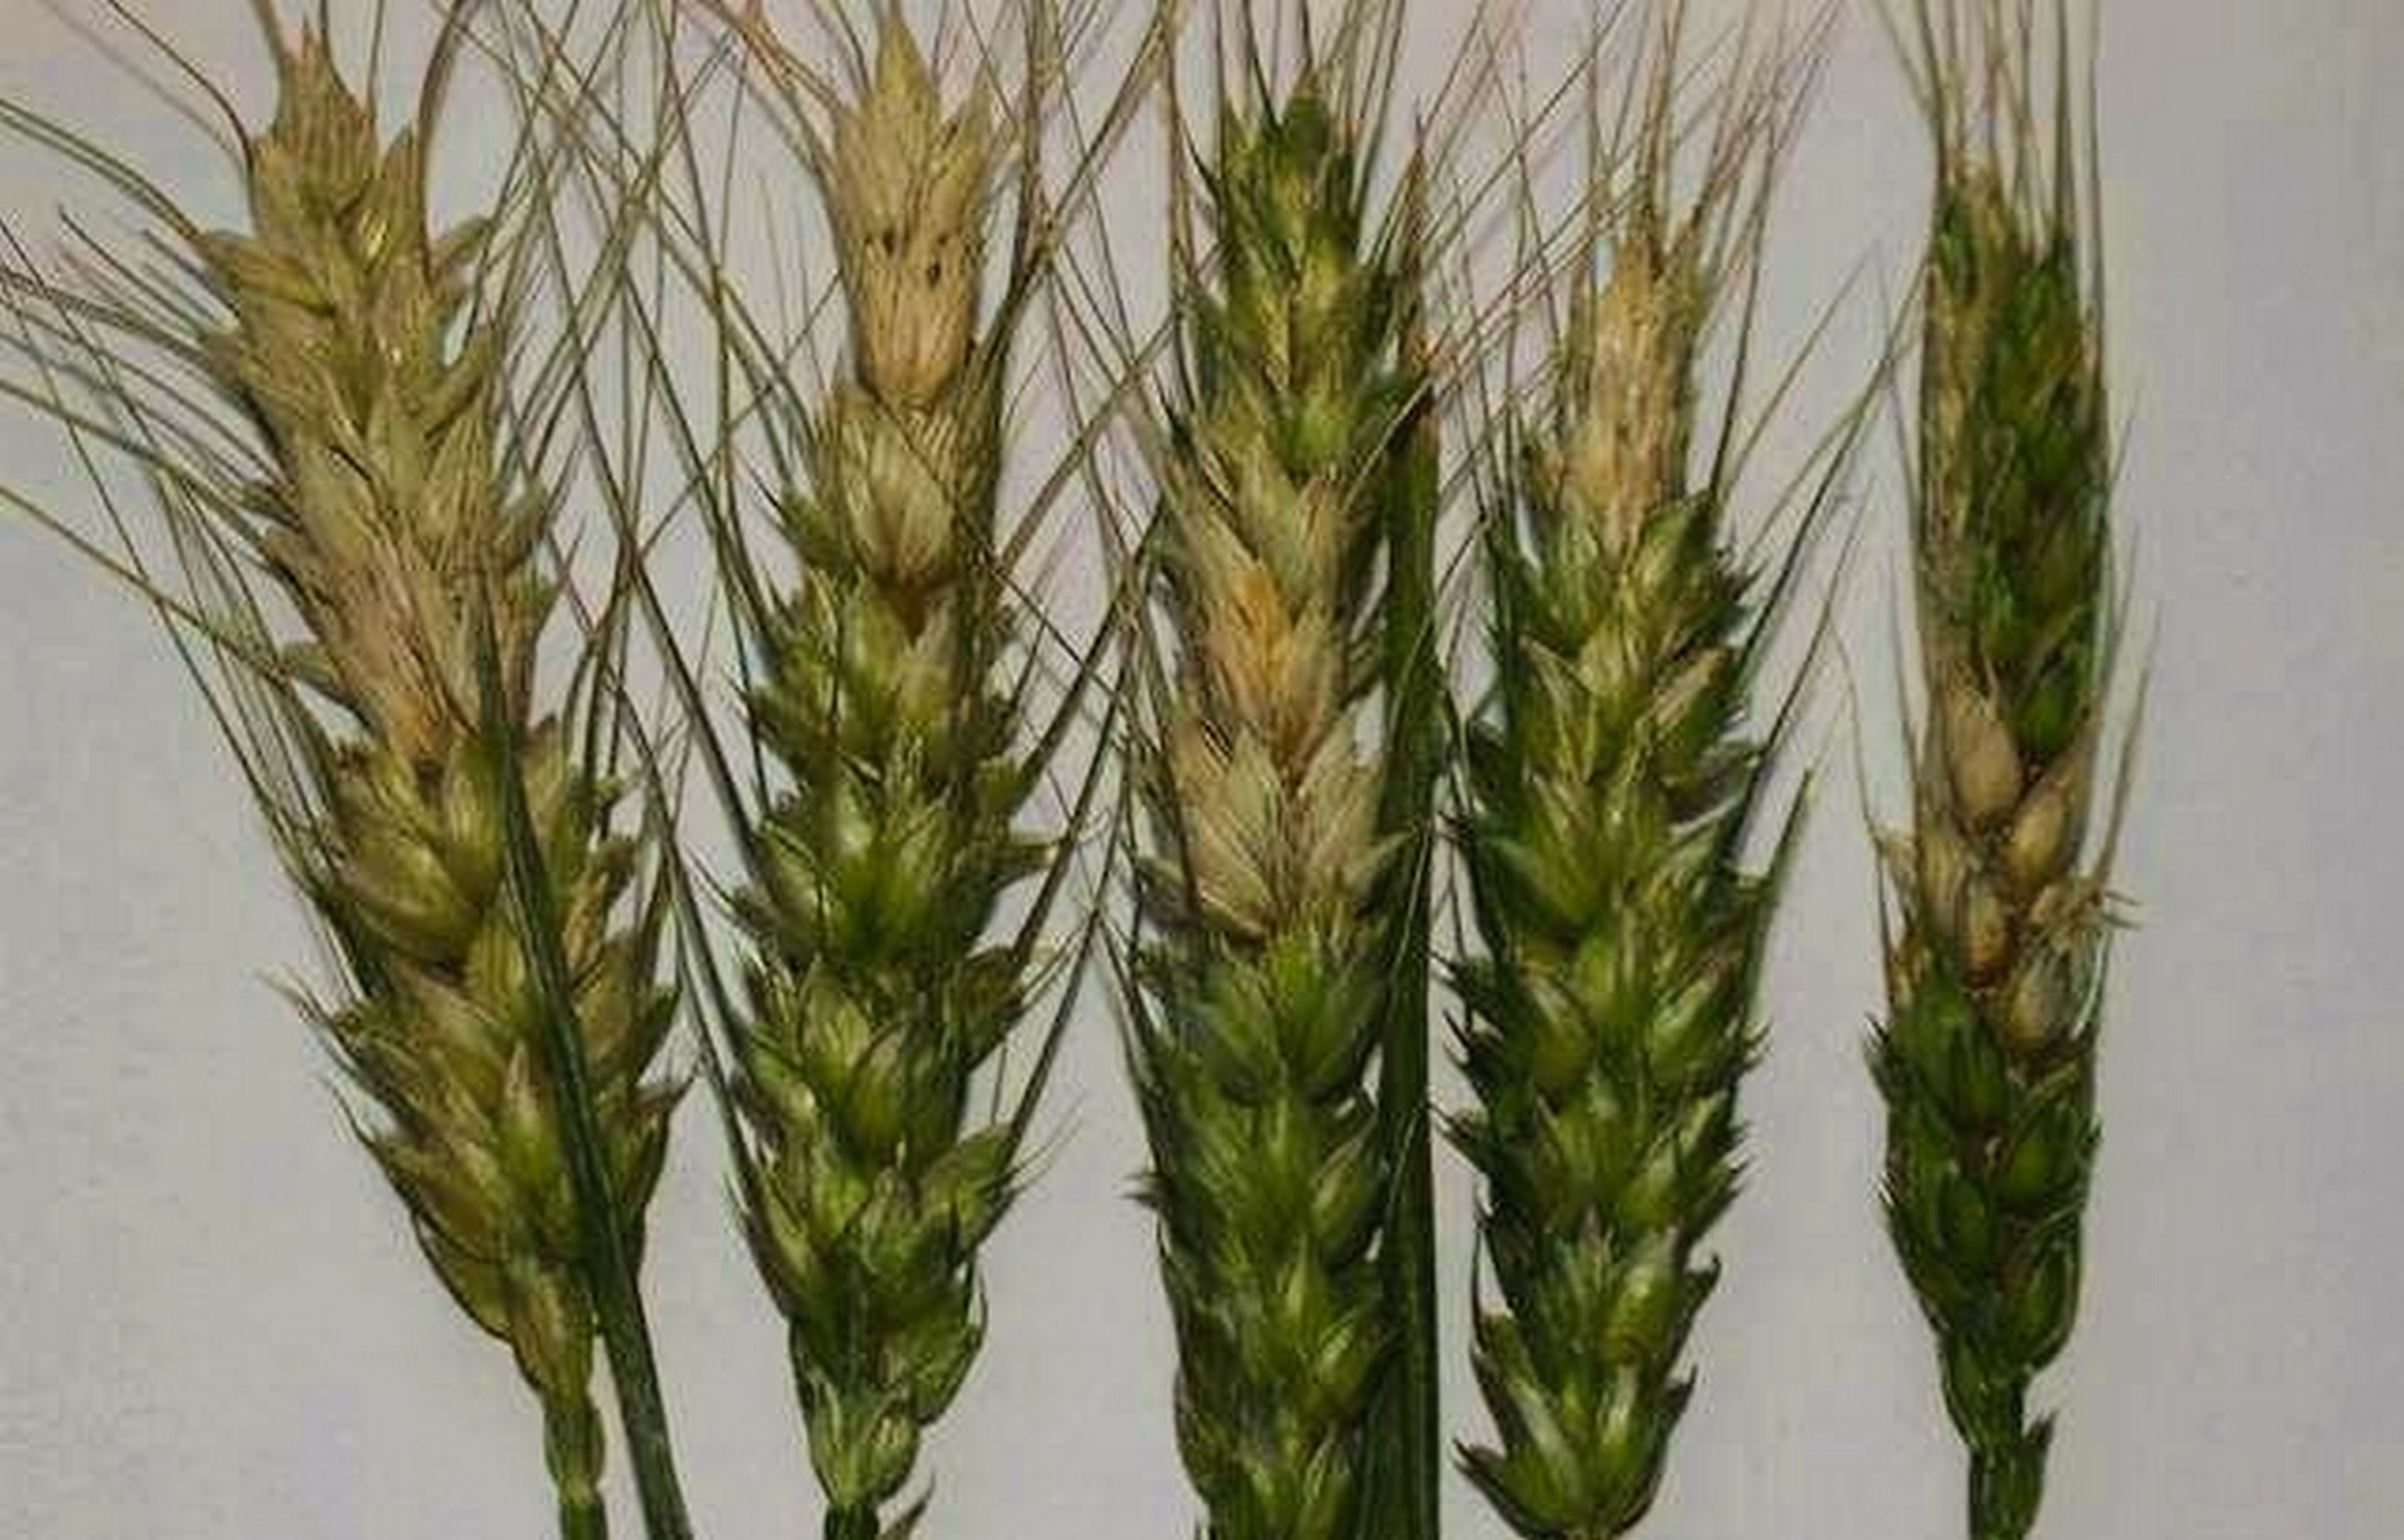Wheat scab: (175, 95, 683, 1323), (704, 12, 1034, 1470), (1458, 170, 1794, 1540), (1106, 47, 1426, 1473), (1859, 154, 2155, 1514)
